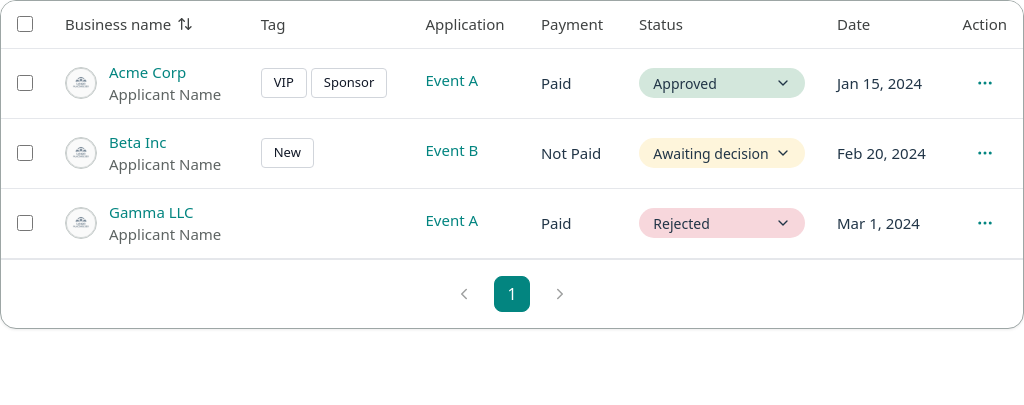
Table › select all checkbox deselects all when clicked again
Click the checkbox named "select all rows on this page".
click(25, 24)  # box [17,16,33,32]
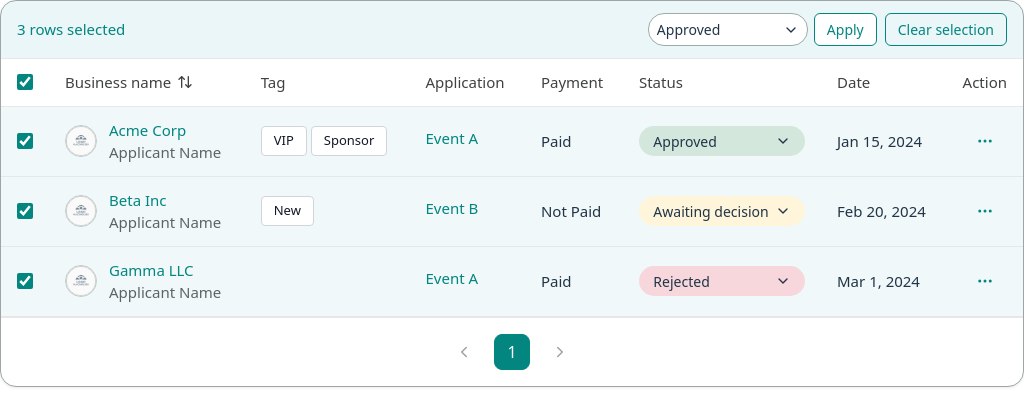
Click the checkbox named "select all rows on this page".
click(25, 82)  # box [17,74,33,90]
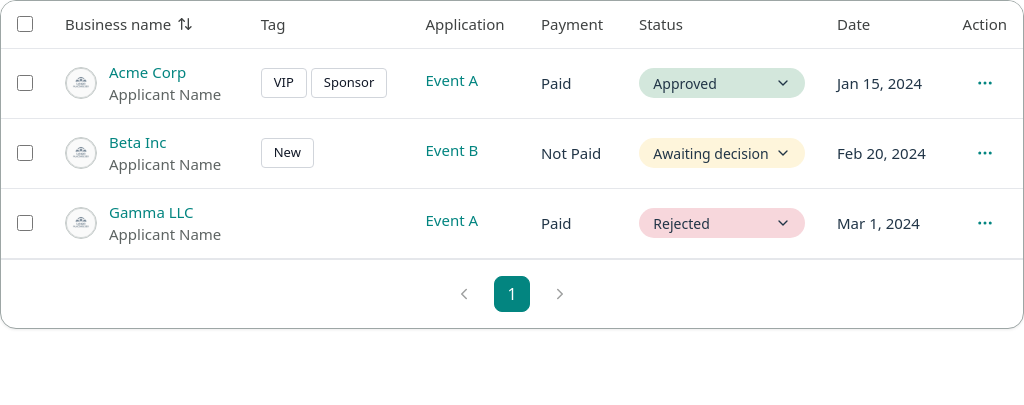
Expected: the checkbox named "select all rows on this page" is not checked, [17,16,33,32]
Expected: the checkbox named "select acme corp" is not checked, [17,75,33,91]
